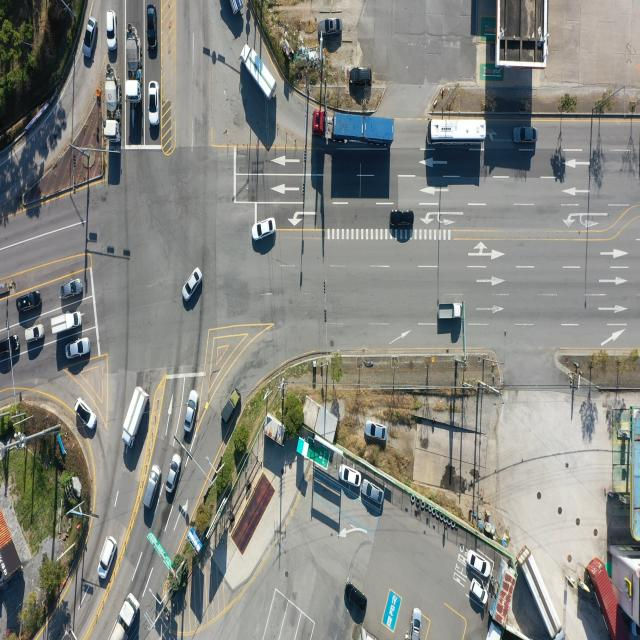car: (344, 581, 368, 617), (99, 536, 118, 580), (143, 464, 161, 510), (75, 401, 97, 433), (221, 389, 240, 425), (182, 269, 202, 302), (166, 454, 182, 495), (84, 16, 99, 59), (467, 552, 489, 579), (183, 391, 197, 433), (0, 334, 20, 362), (146, 6, 157, 54), (254, 218, 277, 240), (148, 80, 159, 126), (362, 482, 383, 506), (17, 291, 41, 312), (469, 578, 487, 606), (340, 464, 362, 486), (66, 340, 90, 360), (390, 209, 414, 227), (364, 422, 386, 441), (62, 280, 84, 299), (351, 66, 373, 85), (514, 127, 537, 145), (411, 608, 423, 640), (107, 11, 117, 49), (25, 324, 45, 342), (322, 18, 342, 36)
large_bus: (428, 118, 486, 145)
large_truck: (313, 109, 393, 147)
medium_truck: (522, 546, 565, 638), (243, 44, 278, 103), (123, 387, 149, 449), (109, 592, 142, 640), (125, 29, 142, 100), (104, 75, 122, 140), (228, 0, 244, 17)
small_truck: (51, 313, 82, 338), (437, 302, 462, 320)
